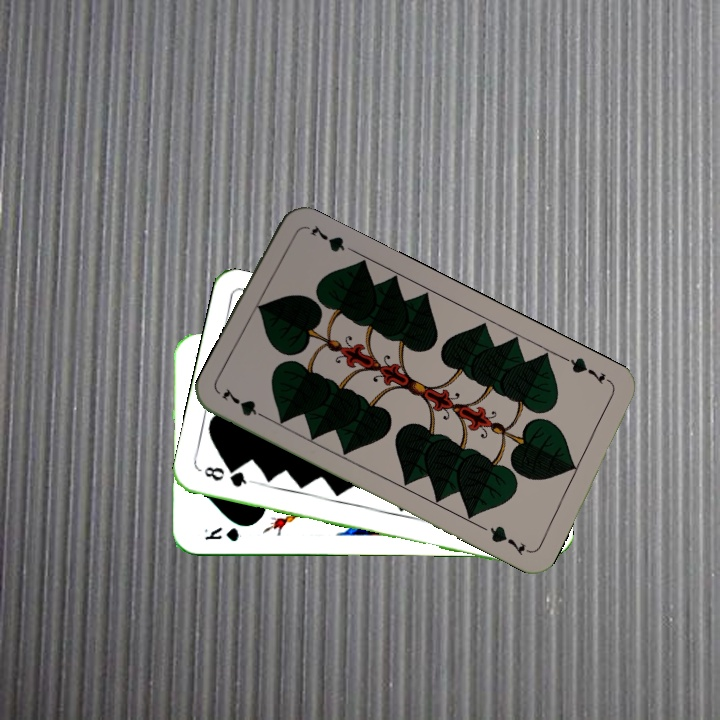G7: (218, 384, 272, 423), (561, 353, 616, 388)
G8: (200, 462, 256, 490)
GK: (201, 523, 242, 544)
